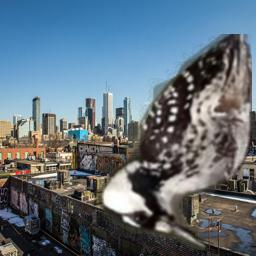Woodpecker: (94, 34, 252, 250)
